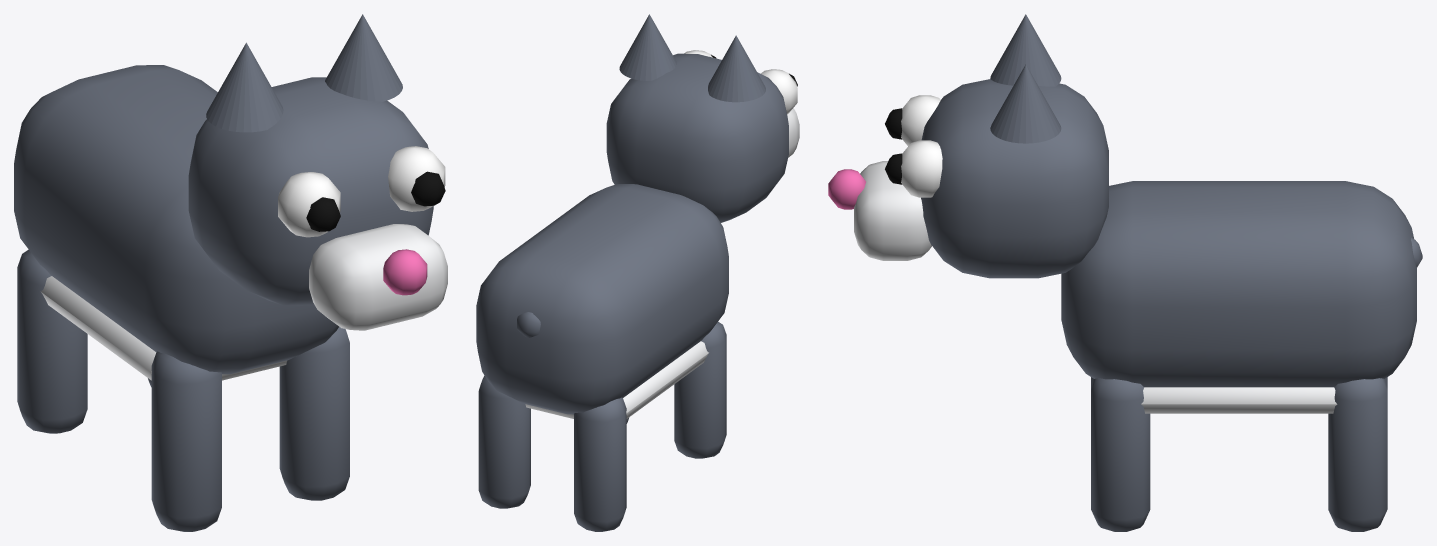
Rendered from cat.glb.
3 renders of one model, left to right at view 1: azimuth 30°, elevation 25°; view 2: azimuth 150°, elevation 25°; view 3: azimuth 270°, elevation 25°, orthographic. The views are drawn at different scales.
Visible parts, largest first — view 1: Body, Head, LegFL, LegFR, Snout, LegBL, Ear-1, Belly, Ear1, EyeW-1, EyeW1, NoseTip (+2 smaller); view 2: Body, Head, LegBL, LegBR, LegFL, Ear-1, Ear1, Belly, EyeW-1, Tail, Snout; view 3: Body, Head, LegBR, LegFR, Snout, Belly, Ear1, Ear-1, EyeW1, EyeW-1, NoseTip.
Part boxes in pixels (x1,y1,x2,y2): Body: (14,65,338,374); Head: (188,77,433,305); LegFL: (151,351,221,531); LegFR: (279,326,349,500); Snout: (309,224,447,330); LegBL: (17,249,87,433); Ear-1: (206,42,283,132); Belly: (40,276,287,380); Ear1: (325,14,402,101); EyeW-1: (278,172,340,237); EyeW1: (388,146,445,211); NoseTip: (383,249,427,295); Body: (476,184,728,414); Head: (606,53,788,222); LegBL: (574,397,626,531); LegBR: (478,375,530,508); LegFL: (674,321,726,458); Ear-1: (708,35,765,102); Ear1: (619,14,676,80); Belly: (525,341,708,418); EyeW-1: (760,69,797,114); Tail: (517,312,540,337); Snout: (787,108,799,157); Body: (1061,181,1416,387); Head: (921,79,1108,278); LegBR: (1328,378,1387,531); LegFR: (1091,378,1150,531); Snout: (854,161,931,260); Belly: (1141,387,1337,413); Ear1: (990,64,1061,143); Ear-1: (990,14,1061,86); EyeW1: (901,140,942,197); EyeW-1: (901,95,940,145); NoseTip: (828,169,865,209).
Size of the model in its own units: 0.34 by 0.86 by 1.
